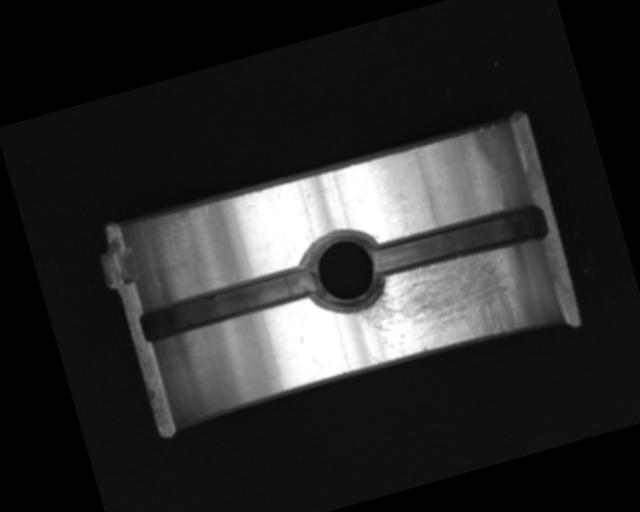gap: (367, 198, 550, 284), (137, 262, 320, 346)
hole: (295, 222, 392, 321)
scratch: (350, 241, 536, 370)
